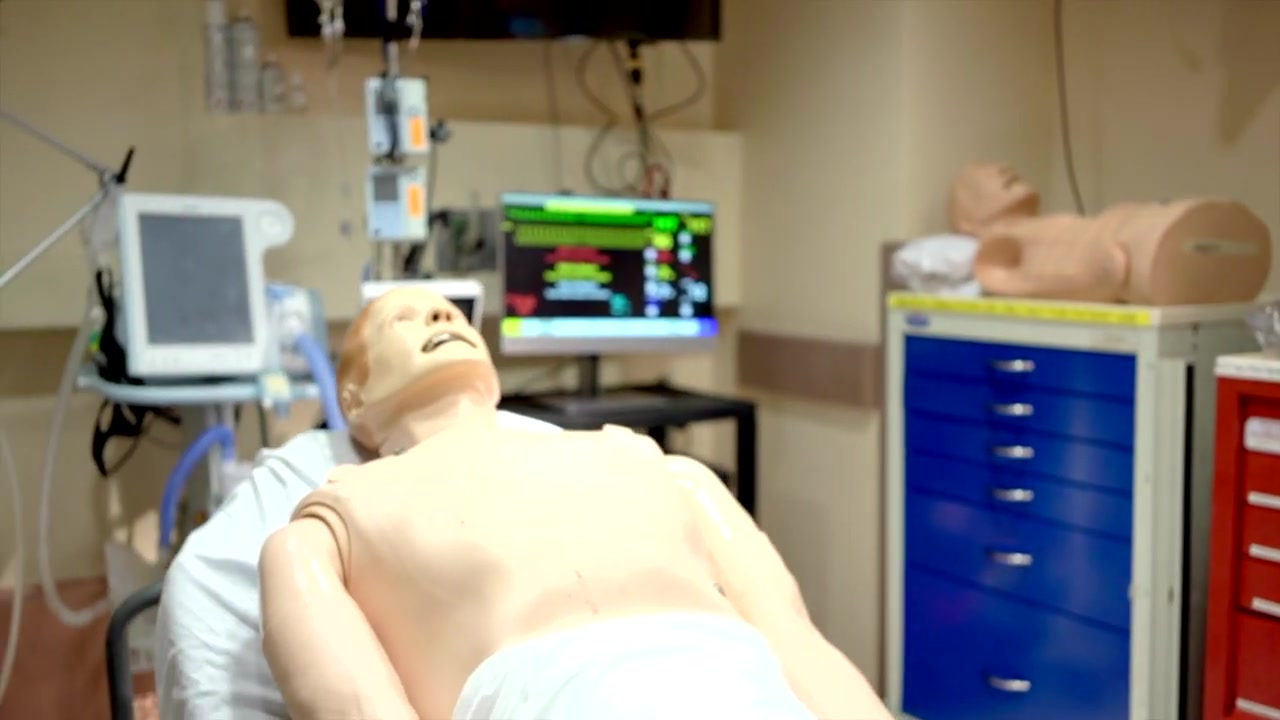TV: (282, 1, 722, 42)
bedside_monitor: (494, 189, 719, 357), (111, 190, 298, 374)
breathing_tube: (275, 309, 349, 426)
handle: (992, 546, 1034, 569), (992, 357, 1037, 376), (990, 487, 1035, 506), (987, 675, 1033, 693), (992, 443, 1034, 462), (993, 401, 1034, 419)
hospital_bed: (158, 409, 565, 720)
infusion_pump: (363, 164, 441, 242), (361, 78, 439, 156)
medical_drawer: (881, 286, 1280, 720), (1201, 349, 1280, 720)
